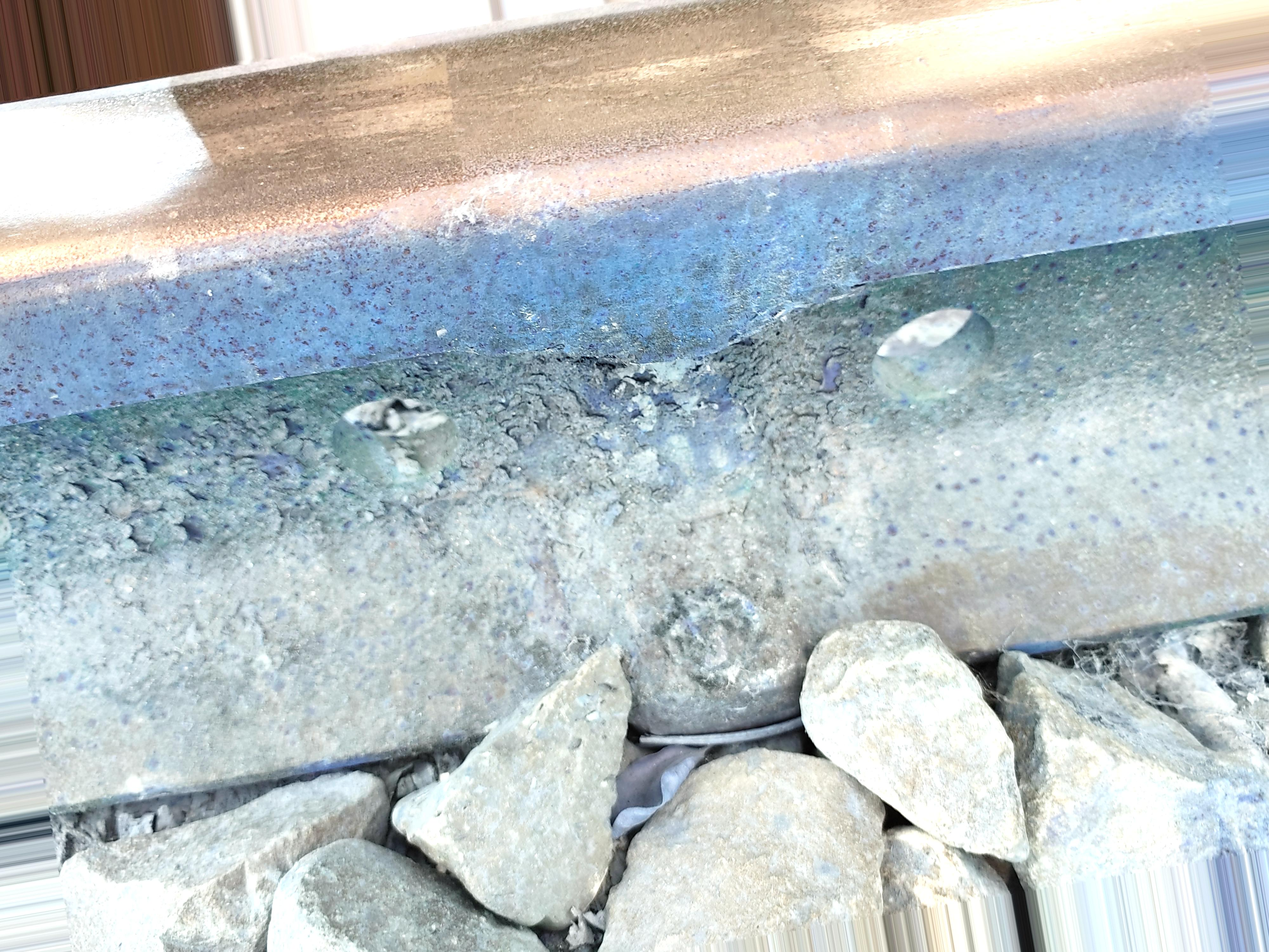tracks_fault: (46, 231, 961, 711)
